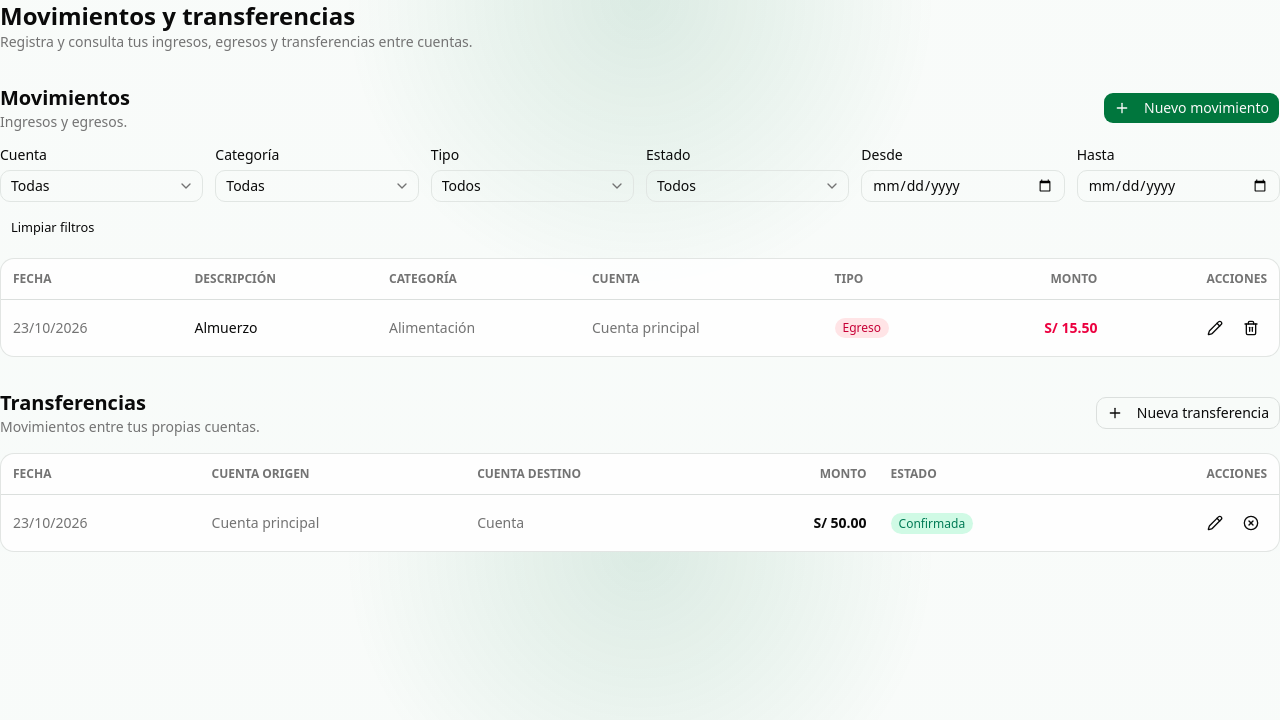
Test case: TransactionsPage › ofrece el alta de movimientos y transferencias
This screenshot has width=1280, height=720.
Click the button "Nuevo movimiento". click: (1192, 108)
box: [1103,92,1279,124]
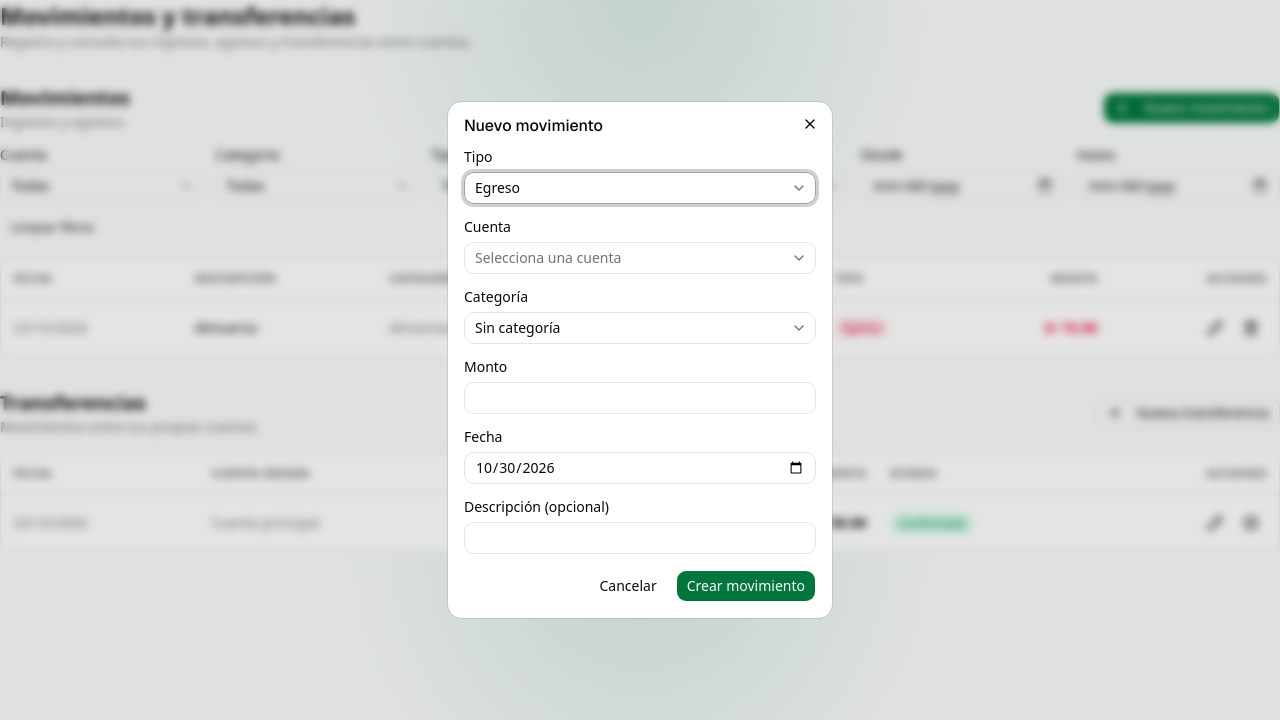
Expected: the heading "Nuevo movimiento" is shown, [464,115,603,136]
